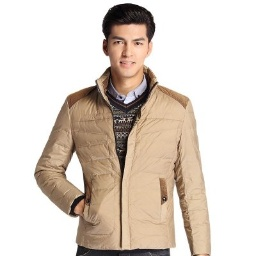face: (103, 3, 154, 78)
